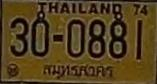0: (31, 16, 48, 56), (67, 19, 84, 57)
1: (136, 20, 141, 59)
3: (10, 17, 28, 56)
8: (108, 18, 126, 58), (88, 19, 105, 57)
SKN: (42, 62, 115, 81)
